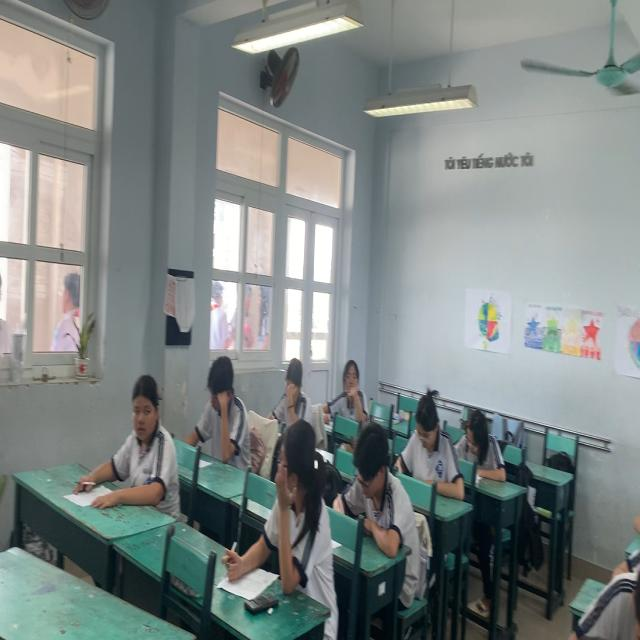cheating: (254, 413, 333, 619), (107, 360, 177, 510), (336, 332, 382, 430)
not_cheating: (343, 409, 414, 564), (192, 342, 251, 491), (401, 392, 454, 513), (264, 339, 320, 449), (459, 387, 512, 485)
